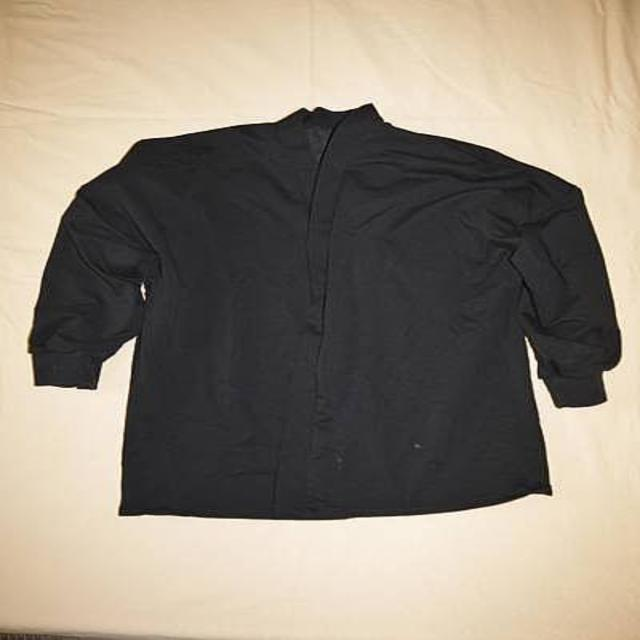SHIRT: (18, 97, 631, 527)
